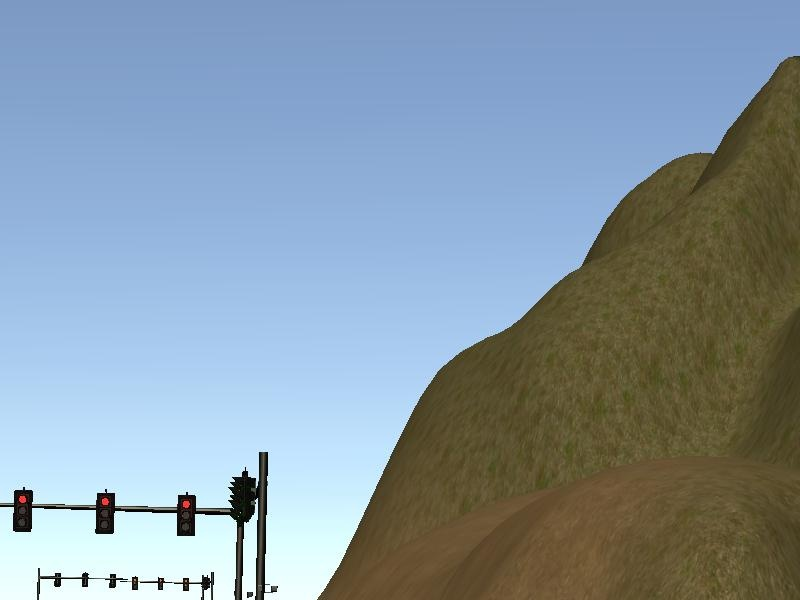red: (176, 492, 197, 539), (14, 489, 34, 533), (97, 491, 116, 535)
